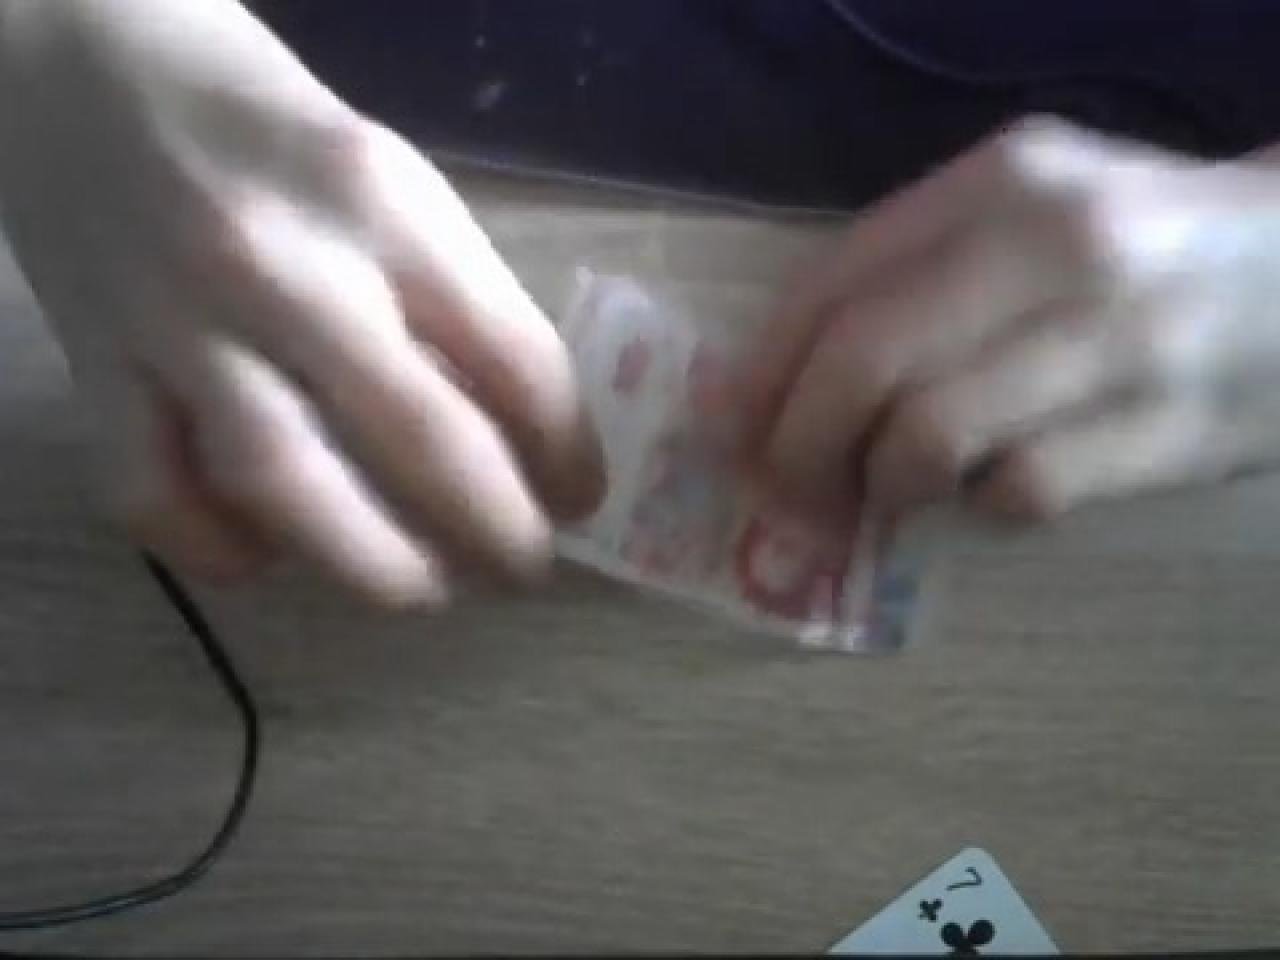5leva: (557, 277, 925, 656)
